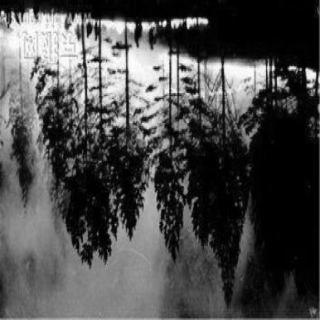Fire: (139, 12, 217, 54), (272, 67, 292, 99), (307, 68, 319, 95)
Smoke: (10, 217, 36, 261)
